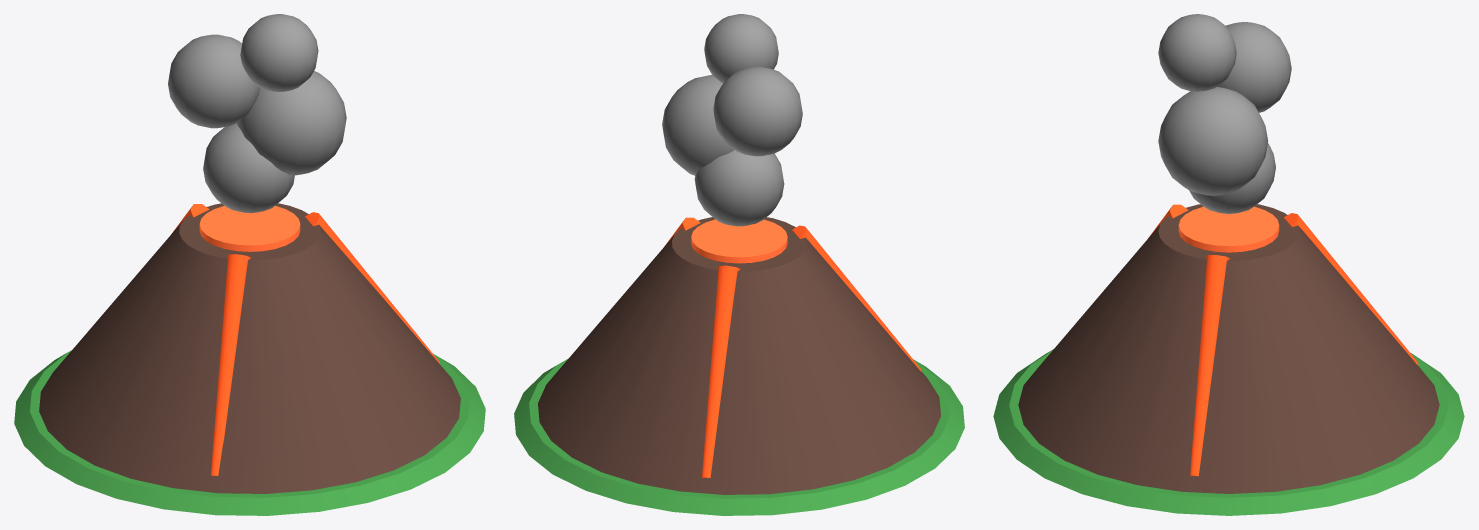
File: volcano.glb
The picture shows the model from 3 angles, left to right: view 1: azimuth 30°, elevation 25°; view 2: azimuth 150°, elevation 25°; view 3: azimuth 270°, elevation 25°; orthographic projection. The views are drawn at different scales.
Visible parts, largest first — view 1: volcano; view 2: volcano; view 3: volcano.
Part boxes in pixels (x1,y1,x2,y2): volcano: [14, 14, 485, 515]; volcano: [514, 14, 964, 515]; volcano: [993, 14, 1464, 515].
Size of the model in its own units: 3 by 2.85 by 3.
